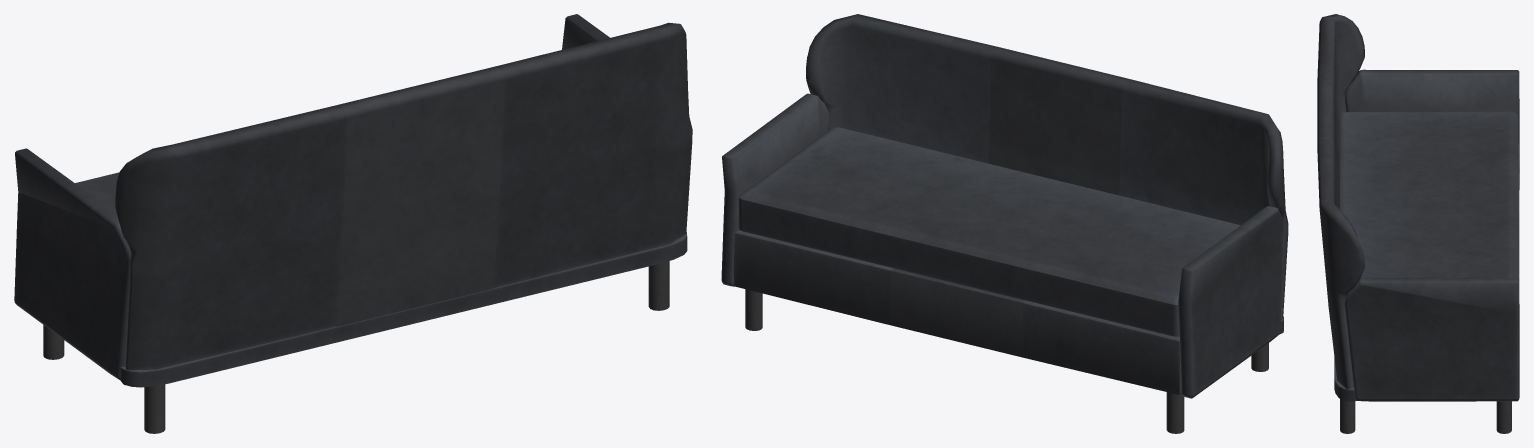
The model's file is ARC0810060.fbx.
The picture shows the model from 3 angles, left to right: view 1: azimuth 30°, elevation 25°; view 2: azimuth 150°, elevation 25°; view 3: azimuth 270°, elevation 25°; orthographic projection. The views are drawn at different scales.
Visible parts, largest first — view 1: smARC0810060; view 2: smARC0810060; view 3: smARC0810060.
Part boxes in pixels (x1,y1,x2,y2): smARC0810060: (14, 14, 692, 433); smARC0810060: (721, 14, 1288, 433); smARC0810060: (1317, 14, 1519, 433).
Size of the model in its own units: 222 by 109 by 88.62.
Materials: 1 (1 with a texture image).
